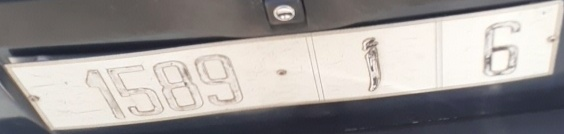1: (81, 64, 129, 122)
5: (104, 58, 167, 117)
6: (482, 16, 522, 82)
8: (153, 59, 204, 112)
9: (194, 54, 245, 107)
a: (350, 30, 393, 95)
